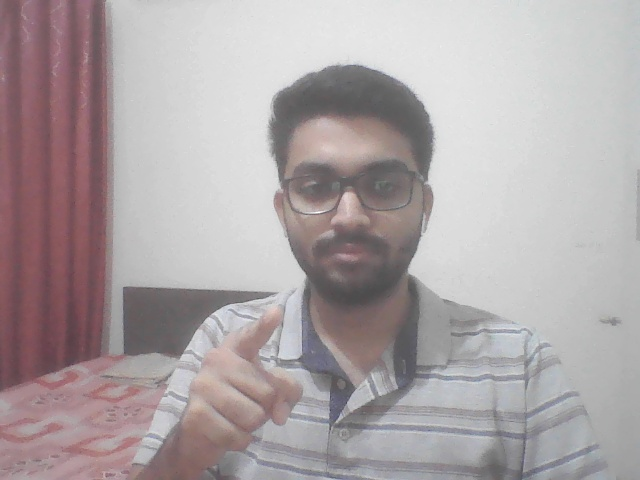you: (161, 280, 327, 478)
